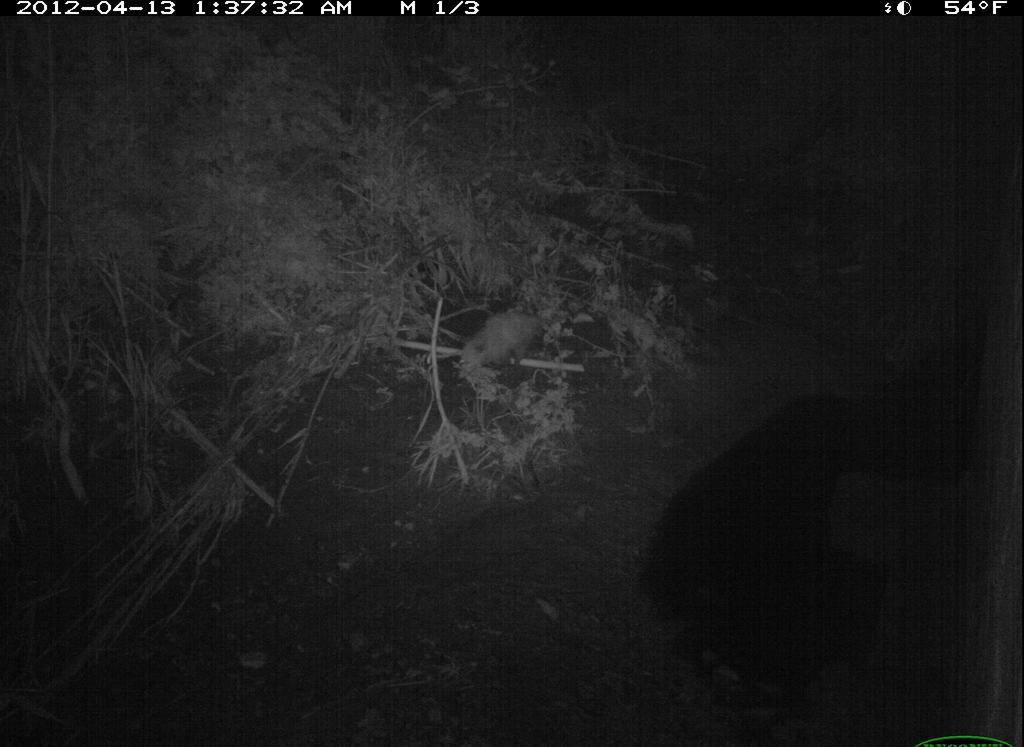opossum: (449, 296, 594, 391)
